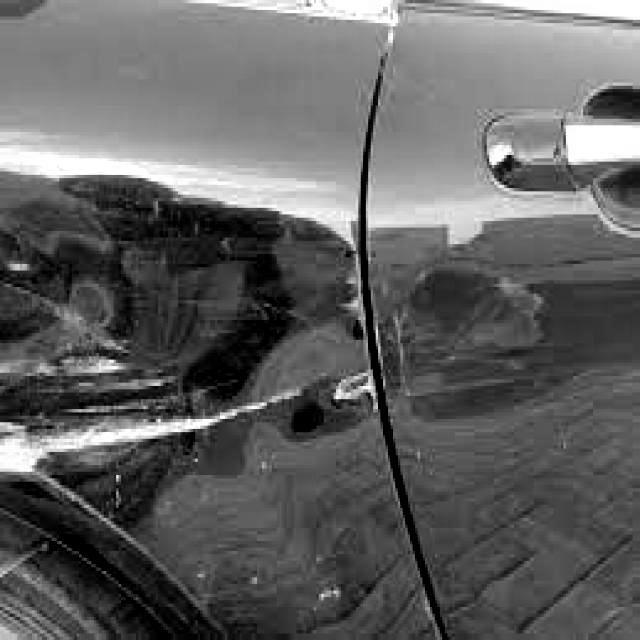doorouter-dent: (369, 208, 579, 418)
quaterpanel-dent: (0, 171, 358, 497)
